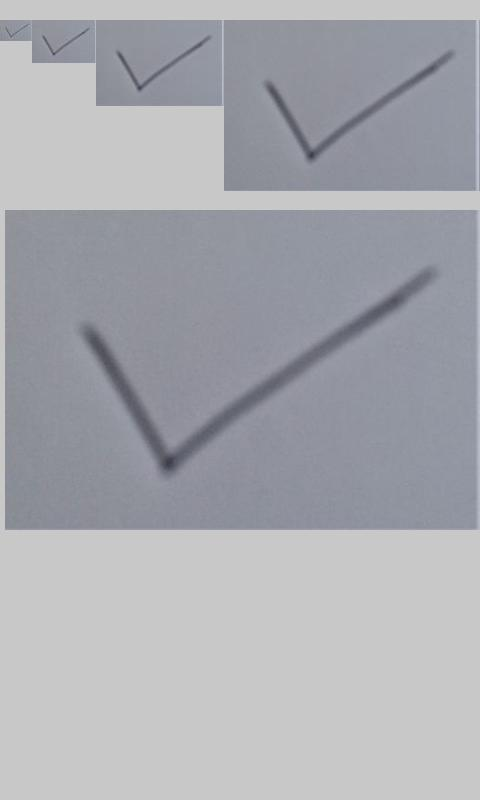check_box: (81, 267, 436, 475), (263, 49, 454, 162), (114, 35, 210, 91), (42, 28, 89, 55), (5, 24, 29, 38)
